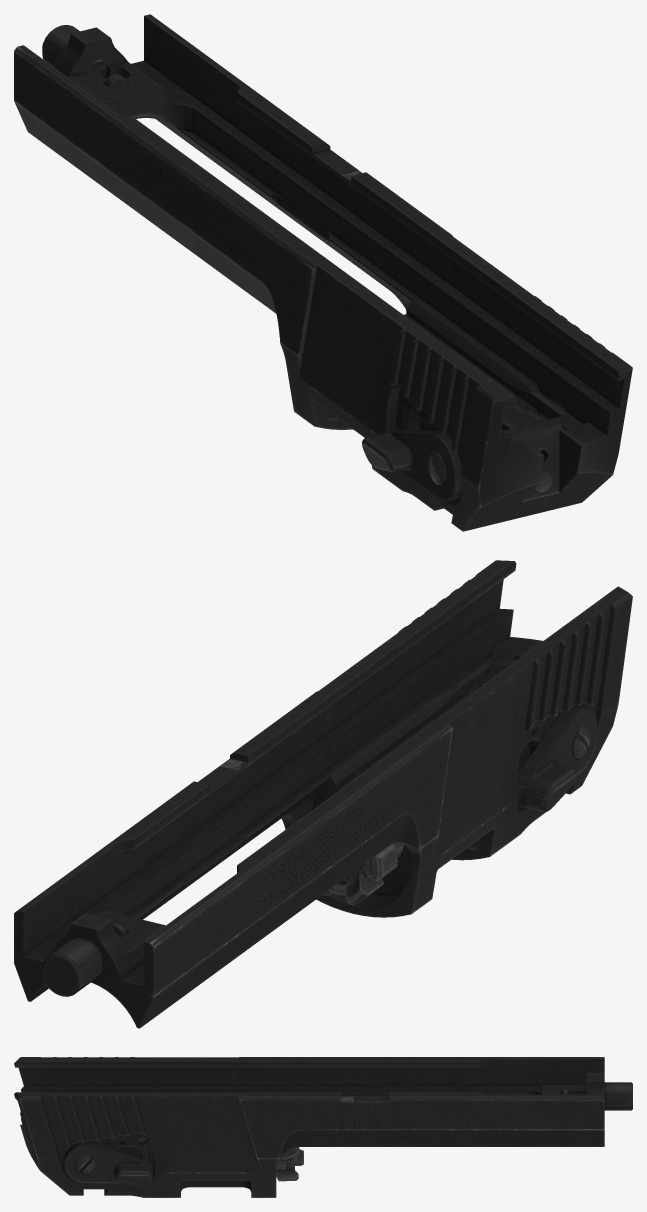
3 renders of one model, top to bottom at view 1: azimuth 30°, elevation 25°; view 2: azimuth 150°, elevation 25°; view 3: azimuth 270°, elevation 25°, orthographic. The views are drawn at different scales.
Parts seen in each view (by area): view 1: TW_669fa5019aa2a422600442f6_PZ_Import; view 2: TW_669fa5019aa2a422600442f6_PZ_Import; view 3: TW_669fa5019aa2a422600442f6_PZ_Import.
Part boxes in pixels (left/top/right/bottom): TW_669fa5019aa2a422600442f6_PZ_Import: left=14, top=14, right=632, bottom=531; TW_669fa5019aa2a422600442f6_PZ_Import: left=14, top=560, right=632, bottom=1028; TW_669fa5019aa2a422600442f6_PZ_Import: left=14, top=1057, right=632, bottom=1197.
Size of the model in its own units: 0.0262 by 0.1201 by 0.024.
1 material, 1 textured.
